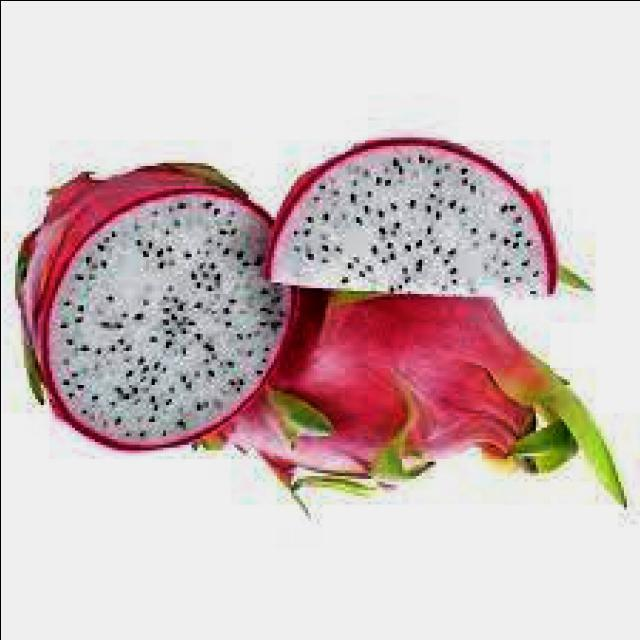trang: (198, 282, 630, 512), (10, 157, 290, 454), (270, 136, 564, 300)
